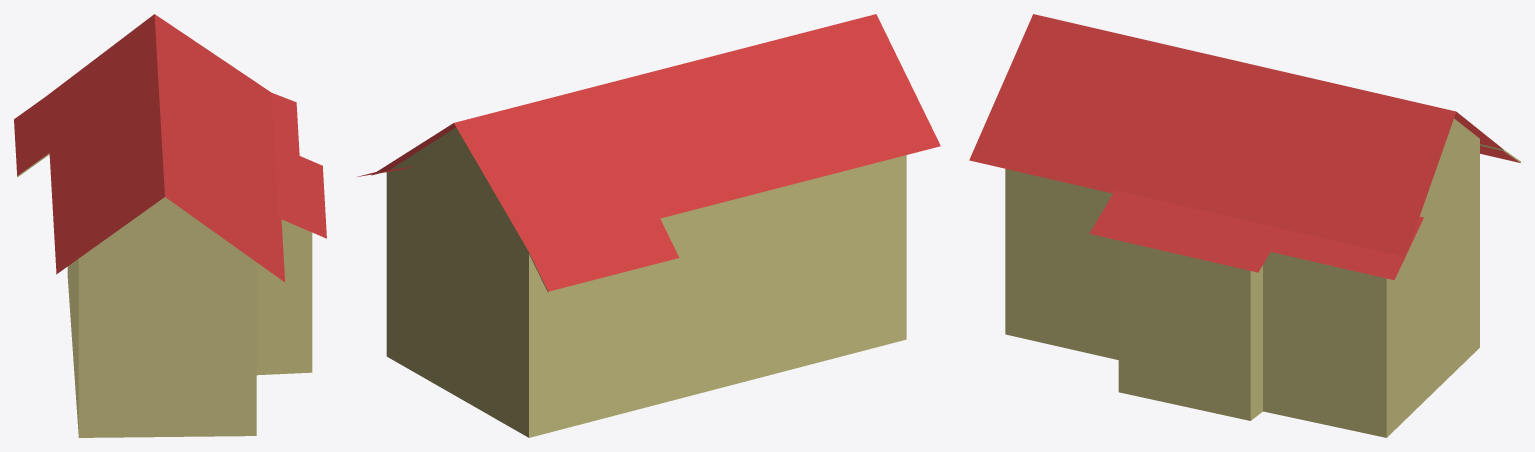
The picture shows the model from 3 angles, left to right: view 1: azimuth 30°, elevation 25°; view 2: azimuth 150°, elevation 25°; view 3: azimuth 270°, elevation 25°; orthographic projection. The views are drawn at different scales.
Size of the model in its own units: 25.06 by 28.58 by 15.86.
